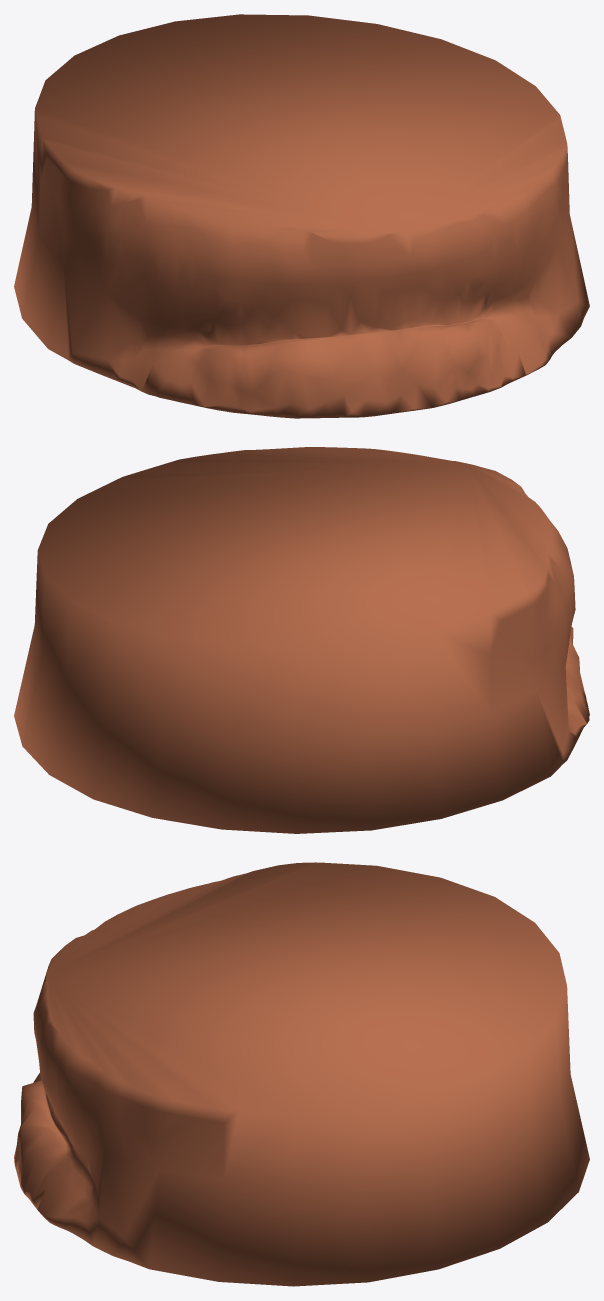
Rendered from Mandragora Potion.fbx.
3 renders of one model, top to bottom at view 1: azimuth 30°, elevation 25°; view 2: azimuth 150°, elevation 25°; view 3: azimuth 270°, elevation 25°, orthographic.
Parts seen in each view (by area): view 1: Cylinder.004; view 2: Cylinder.004; view 3: Cylinder.004.
Part boxes in pixels (x1,y1,x2,y2): Cylinder.004: [14, 14, 589, 418]; Cylinder.004: [14, 447, 589, 833]; Cylinder.004: [14, 862, 589, 1286].
Size of the model in its own units: 35.95 by 13.18 by 35.9.
